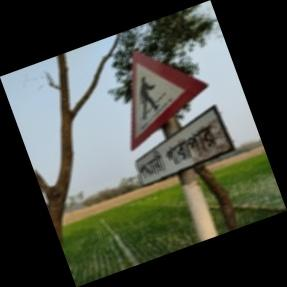Pedestrian-crossing: (126, 43, 235, 188)
